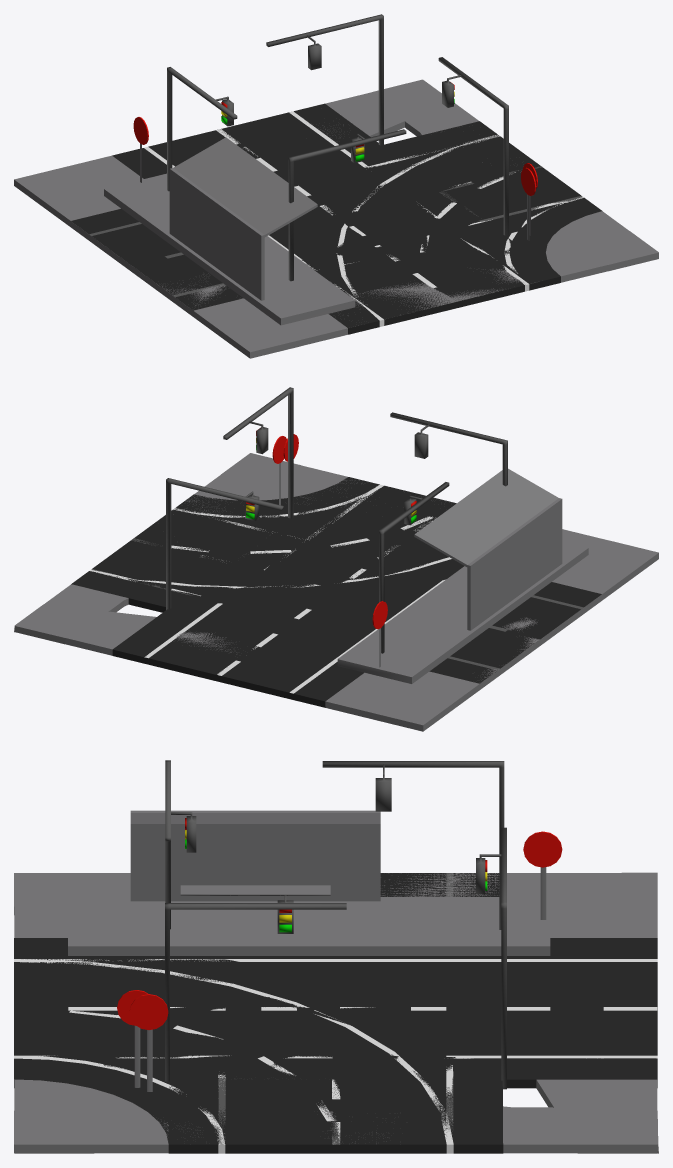
The model's file is roads02.fbx.
The picture shows the model from 3 angles, top to bottom: view 1: azimuth 30°, elevation 25°; view 2: azimuth 150°, elevation 25°; view 3: azimuth 270°, elevation 25°; orthographic projection. The views are drawn at different scales.
Parts seen in each view (by area): view 1: road_intersection_T, road_intersection_L.001, road.001, road_intersection_X.001, road_stop.001, road_intersection_X, road_stop, road.005, road_intersection_L; view 2: road_intersection_L.001, road_intersection_T, road.001, road_intersection_X.001, road_stop.001, road_intersection_X, road.005, road_stop, road_intersection_L, road.004; view 3: road_intersection_T, road_intersection_L.001, road.001, road_intersection_X.001, road_stop.001, road_intersection_X, road_stop, road.005, road_intersection_L.
Boxes of the visible parts, left/top/right/bottom form: road_intersection_T: left=67, top=79, right=633, bottom=335; road_intersection_L.001: left=14, top=80, right=658, bottom=358; road.001: left=104, top=137, right=355, bottom=325; road_intersection_X.001: left=14, top=79, right=658, bottom=351; road_stop.001: left=43, top=80, right=658, bottom=358; road_intersection_X: left=167, top=14, right=508, bottom=281; road_stop: left=194, top=222, right=625, bottom=347; road.005: left=43, top=107, right=498, bottom=358; road_intersection_L: left=327, top=104, right=404, bottom=137; road_intersection_L.001: left=16, top=453, right=655, bottom=731; road_intersection_T: left=14, top=434, right=455, bottom=710; road.001: left=337, top=468, right=588, bottom=683; road_intersection_X.001: left=15, top=436, right=658, bottom=731; road_stop.001: left=44, top=456, right=629, bottom=724; road_intersection_X: left=166, top=387, right=507, bottom=653; road.005: left=112, top=553, right=658, bottom=716; road_stop: left=218, top=466, right=627, bottom=593; road_intersection_L: left=36, top=609, right=192, bottom=635; road.004: left=148, top=631, right=439, bottom=698; road_intersection_T: left=14, top=873, right=658, bottom=1153; road_intersection_L.001: left=14, top=872, right=657, bottom=1153; road.001: left=68, top=810, right=550, bottom=955; road_intersection_X.001: left=14, top=831, right=657, bottom=1152; road_stop.001: left=14, top=873, right=657, bottom=1144; road_intersection_X: left=155, top=760, right=506, bottom=1089; road_stop: left=14, top=873, right=159, bottom=1143; road.005: left=14, top=876, right=657, bottom=1153; road_intersection_L: left=536, top=1079, right=611, bottom=1110.
Bounding box in the file's own units: 200 × 63.58 × 201.
